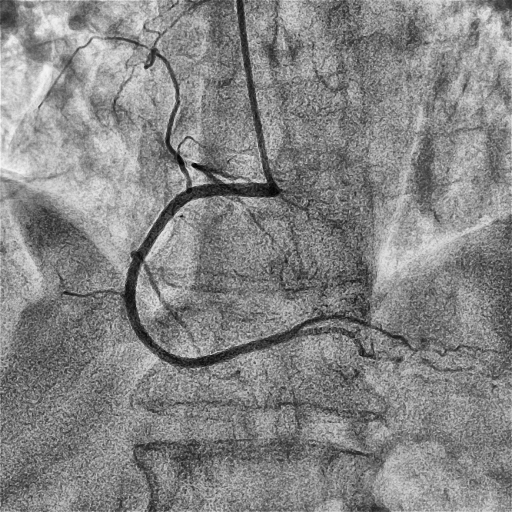pborca: (294, 315, 402, 339)
pda: (299, 327, 365, 356)
rca: (125, 184, 299, 368)
